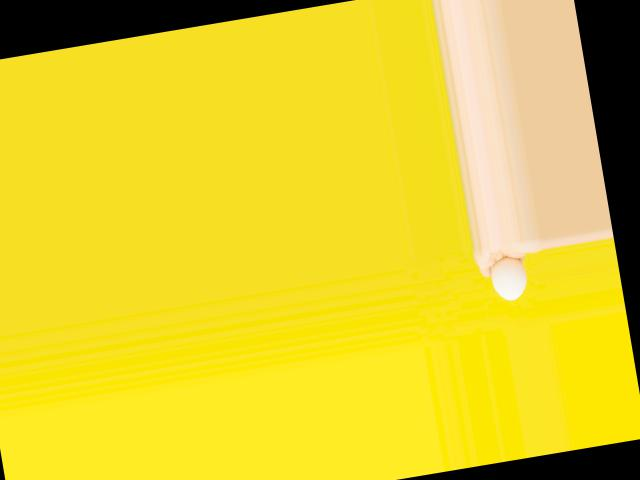egg: (488, 254, 528, 302)
